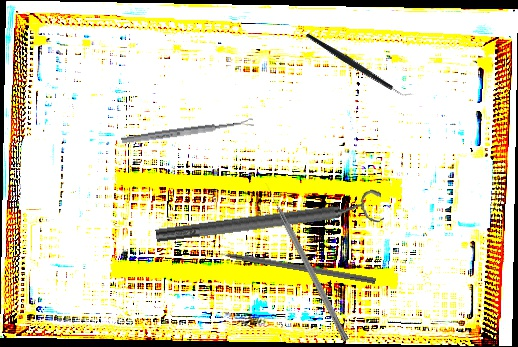Chopper: (305, 5, 414, 125)
Fixation Ring: (153, 188, 385, 252)
Hook Surgical: (262, 180, 351, 343), (204, 246, 377, 284)
Surgical Spoon: (121, 117, 254, 146)
